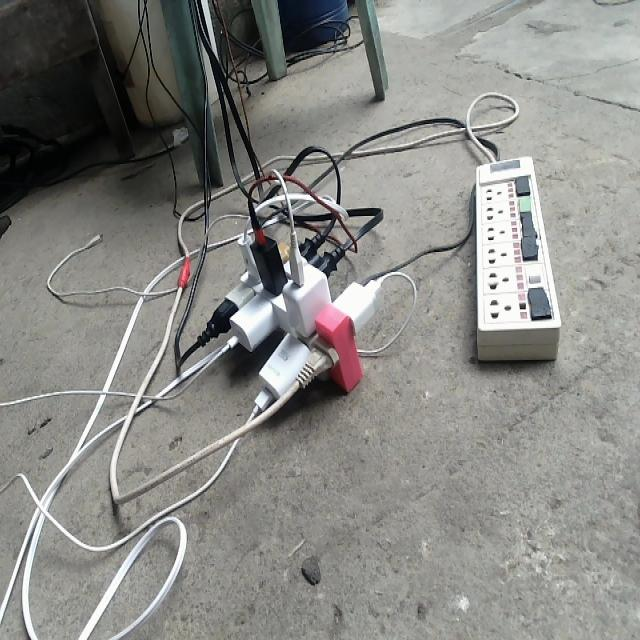-: (205, 201, 392, 420)
